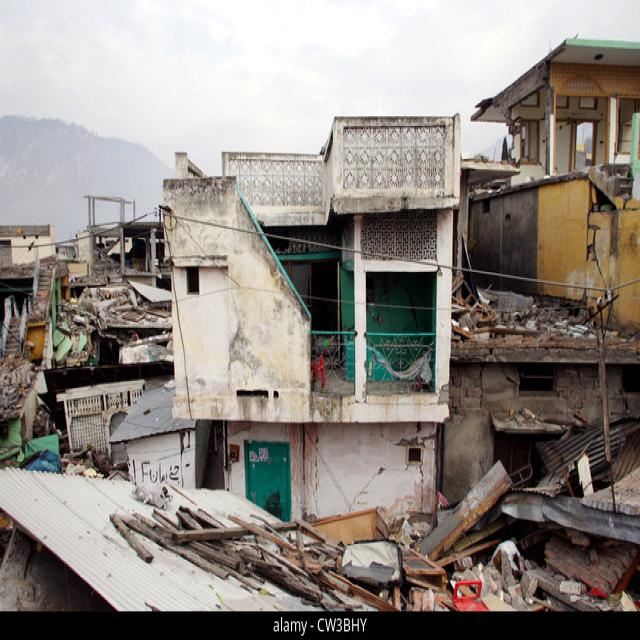metal: (426, 418, 634, 577), (6, 472, 210, 612)
plastic: (456, 578, 489, 613)
trash: (4, 261, 170, 415), (470, 299, 562, 341)
